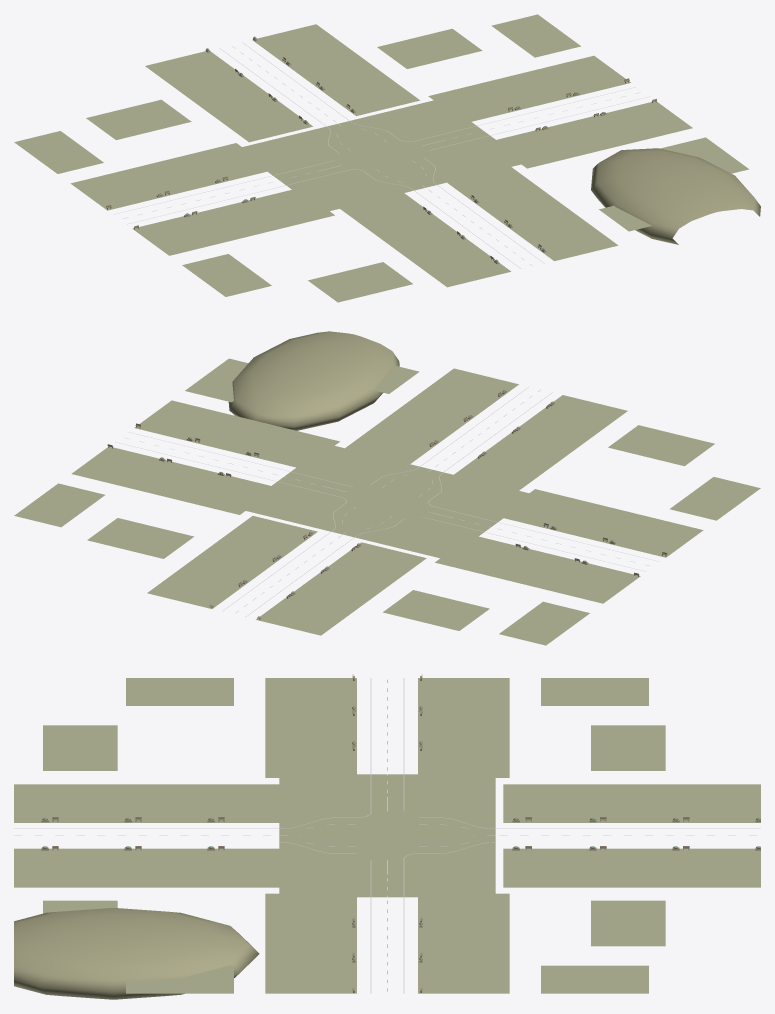
The picture shows the model from 3 angles, top to bottom: view 1: azimuth 30°, elevation 25°; view 2: azimuth 150°, elevation 25°; view 3: azimuth 270°, elevation 25°; orthographic projection. The views are drawn at different scales.
Visible parts, largest first — view 1: static; view 2: static; view 3: static.
Boxes of the visible parts, bbox=[...] form: static: bbox=[14, 14, 760, 302]; static: bbox=[14, 331, 760, 645]; static: bbox=[14, 674, 760, 999].
Size of what is drawn, in the model's own units: 180 by 14.08 by 180.
